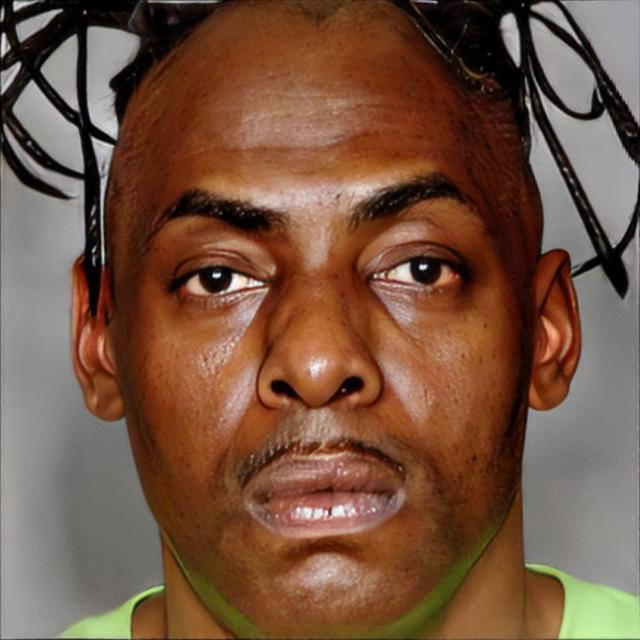anger: (108, 27, 528, 621)
